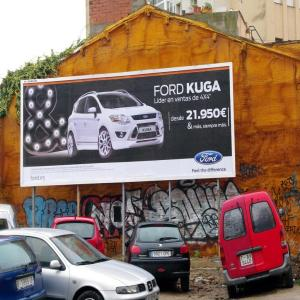Vehicle-registration-plate: (17, 276, 35, 291), (241, 253, 254, 268), (151, 252, 172, 257), (147, 293, 157, 300)
